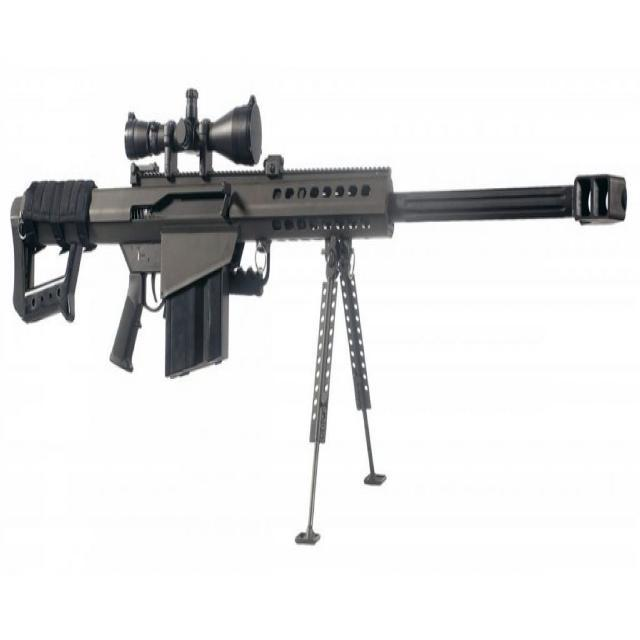rifle: (6, 84, 632, 393)
